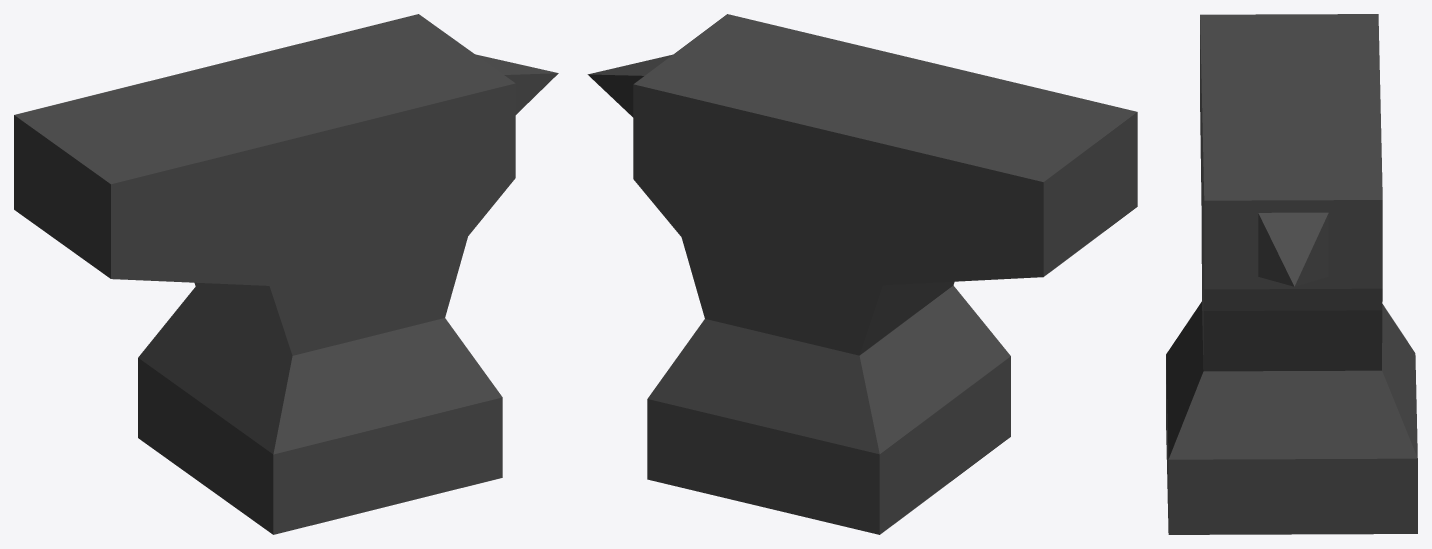
The model's file is Smithworkshop_Anvil.fbx.
3 renders of one model, left to right at view 1: azimuth 30°, elevation 25°; view 2: azimuth 150°, elevation 25°; view 3: azimuth 270°, elevation 25°, orthographic. The views are drawn at different scales.
Visible parts, largest first — view 1: Cube.002; view 2: Cube.002; view 3: Cube.002.
Boxes of the visible parts, bbox=[...] form: Cube.002: bbox=[14, 14, 558, 534]; Cube.002: bbox=[587, 14, 1137, 534]; Cube.002: bbox=[1166, 14, 1417, 534].
Size of the model in its own units: 130 by 92.66 by 60.57.
